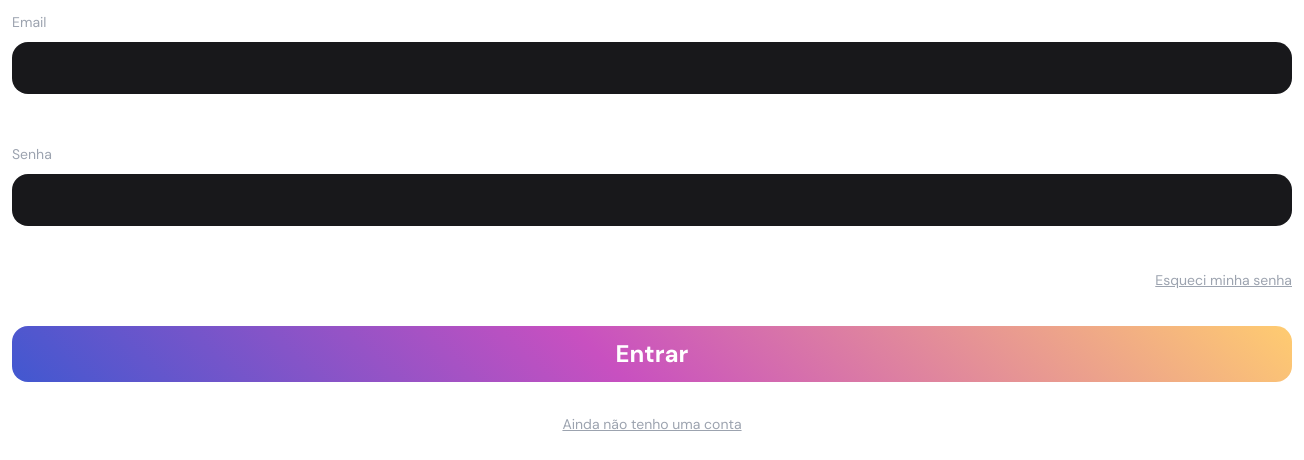
Test: LoginForm › should display error messages › case it s a invalid email
Step 1. Type "a@e.i" into the field labelled "Email" → (652, 68), box [12,42,1292,94]
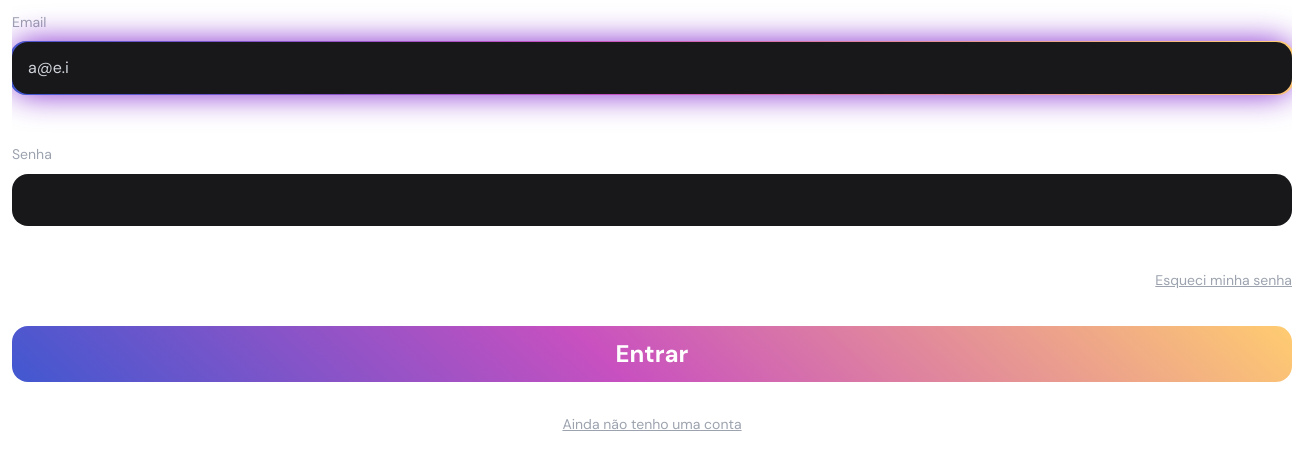
Step 2. Click the button "Entrar" → (652, 354), box [12,326,1292,382]
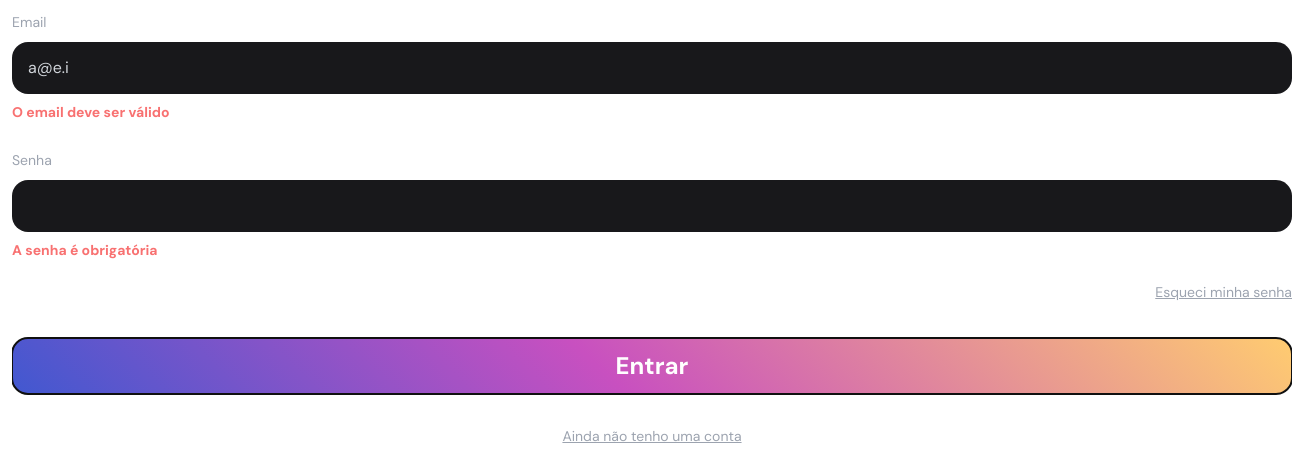
Expected: the text "O email deve ser válido" is shown, [12,102,169,122]
